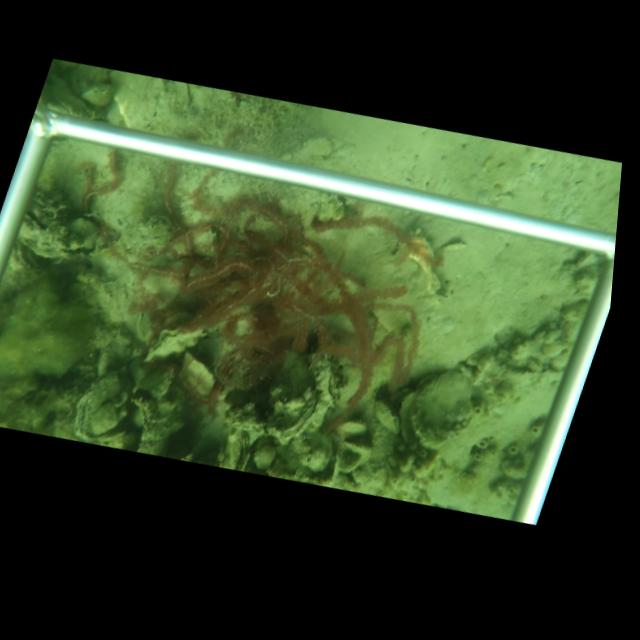Oyster-Closed: (264, 392, 320, 446), (147, 326, 212, 358), (310, 352, 345, 405), (78, 81, 115, 106), (372, 400, 399, 434), (95, 345, 112, 376)
Oyster-Indeterminate: (409, 369, 477, 451), (73, 368, 128, 445), (182, 350, 217, 397)
